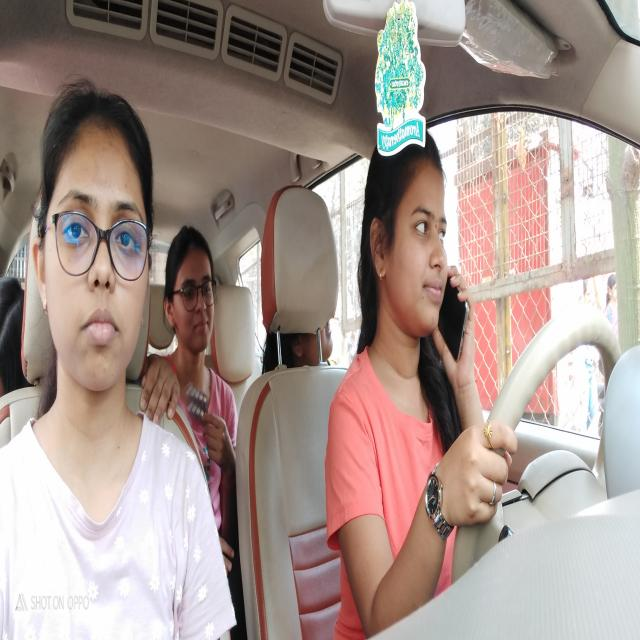mobile: (438, 268, 472, 375)
person: (29, 80, 160, 400), (366, 124, 448, 354), (162, 225, 219, 354), (282, 332, 341, 368)
